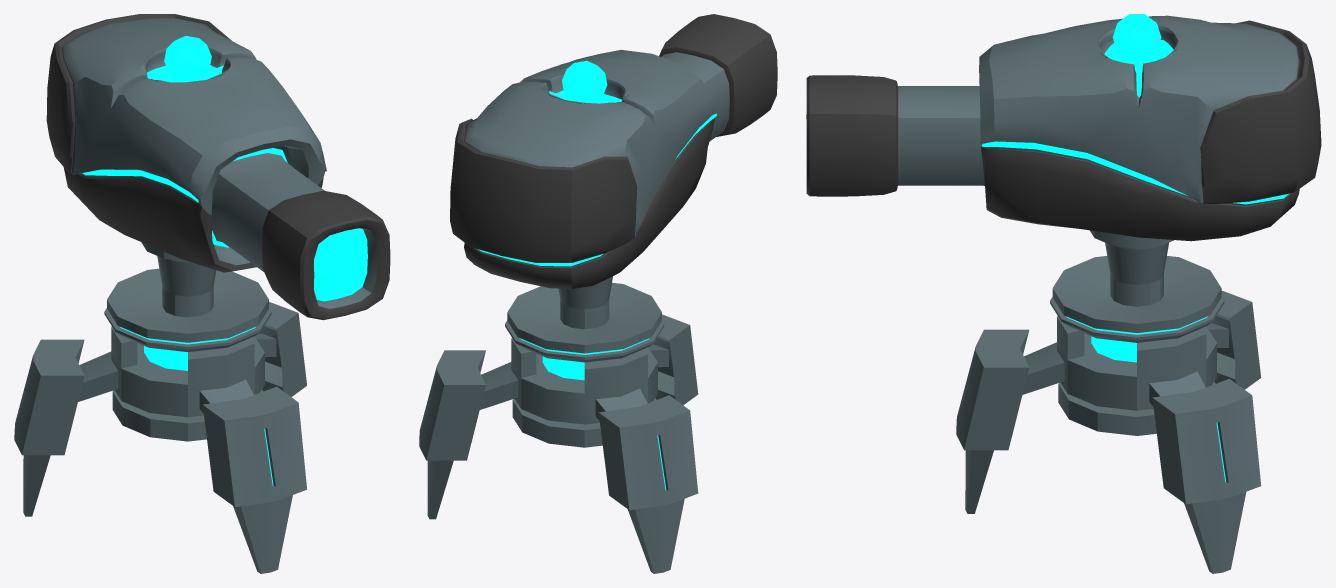
Rendered from Engineer Turret 1.fbx.
3 renders of one model, left to right at view 1: azimuth 30°, elevation 25°; view 2: azimuth 150°, elevation 25°; view 3: azimuth 270°, elevation 25°, orthographic. The views are drawn at different scales.
Visible parts, largest first — view 1: Cylinder.001, Cylinder, Icosphere; view 2: Cylinder.001, Cylinder, Icosphere; view 3: Cylinder.001, Cylinder, Icosphere.
Part boxes in pixels (box(x1,y1,x2,y2)): Cylinder.001: box(46, 14, 390, 320); Cylinder: box(14, 242, 306, 573); Icosphere: box(164, 35, 211, 81); Cylinder.001: box(450, 14, 777, 288); Cylinder: box(419, 276, 698, 573); Icosphere: box(562, 60, 607, 103); Cylinder.001: box(806, 15, 1321, 241); Cylinder: box(956, 230, 1261, 573); Icosphere: box(1112, 14, 1161, 60).
Size of the model in its own units: 70.38 by 112 by 106.
